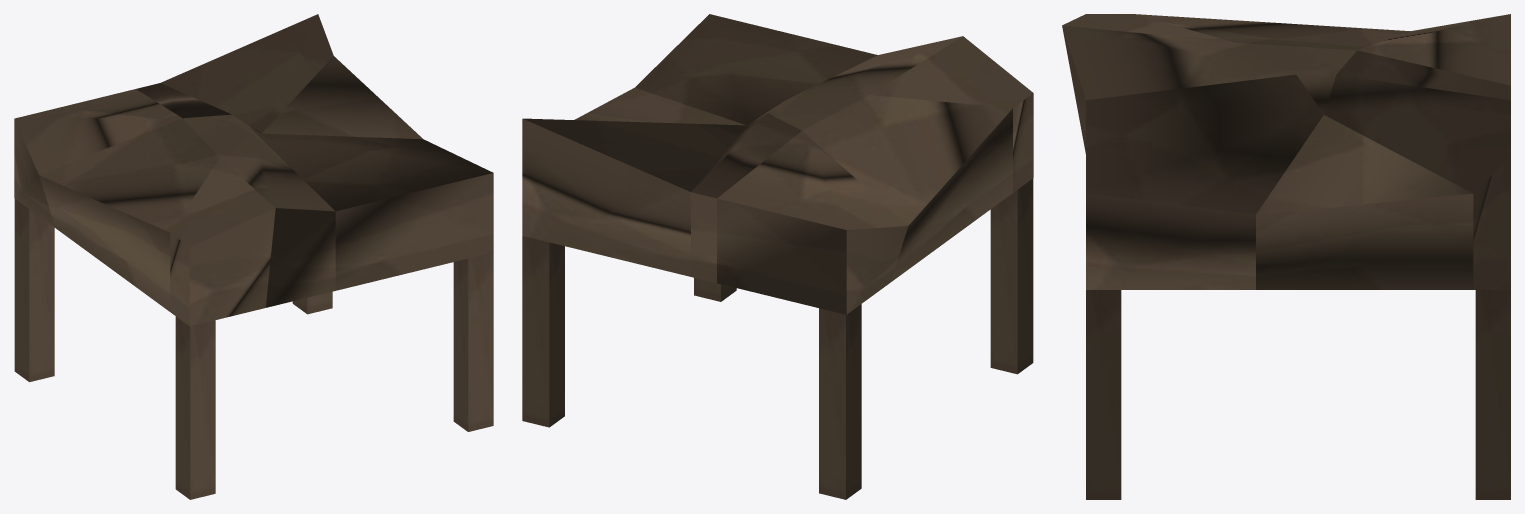
The model's file is table.fbx.
The picture shows the model from 3 angles, left to right: view 1: azimuth 30°, elevation 25°; view 2: azimuth 150°, elevation 25°; view 3: azimuth 270°, elevation 25°; orthographic projection. The views are drawn at different scales.
Parts seen in each view (by area): view 1: Cube_5; view 2: Cube_5; view 3: Cube_5.
Boxes of the visible parts, x1,y1,x2,y2 form: Cube_5: (14, 14, 493, 499); Cube_5: (522, 14, 1033, 499); Cube_5: (1062, 14, 1510, 499).
Bounding box in the file's own units: 63.28 × 53.49 × 63.39.
Materials: 1 (1 with a texture image).
